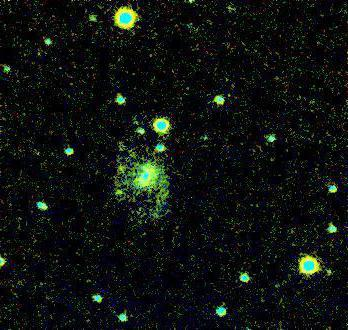star: (107, 175, 137, 205)
